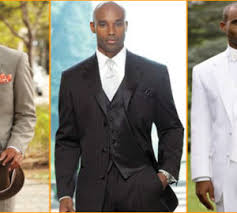black_male: (87, 1, 136, 51)
